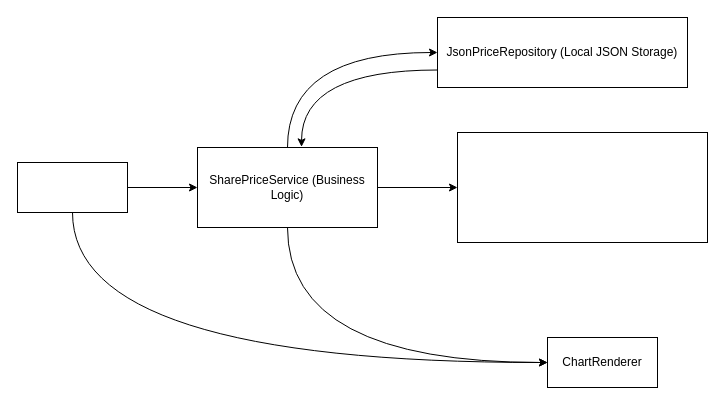
This 725x405 diagram has some shape labels left out. Each missing label, with the centre of its shape:
"MarketDataClient (Yahoo Finance API)" goes at [582,187].
"UI (Web UI)" goes at [72,187].
